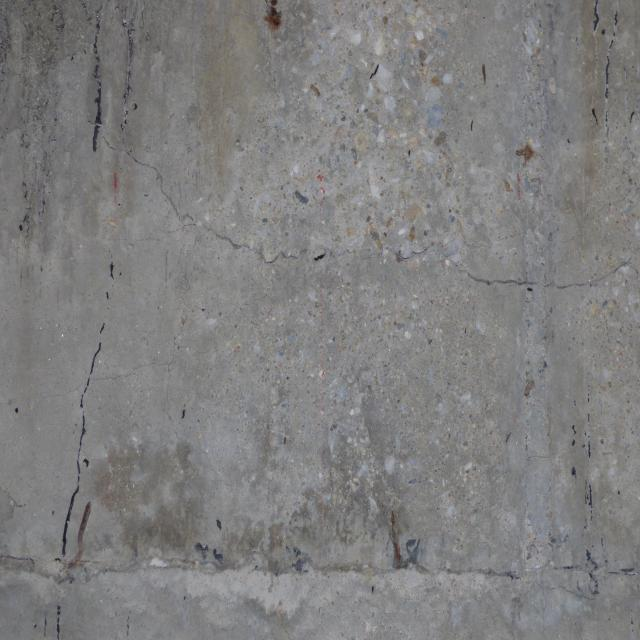corrosion: (513, 138, 543, 170), (265, 0, 286, 34)
